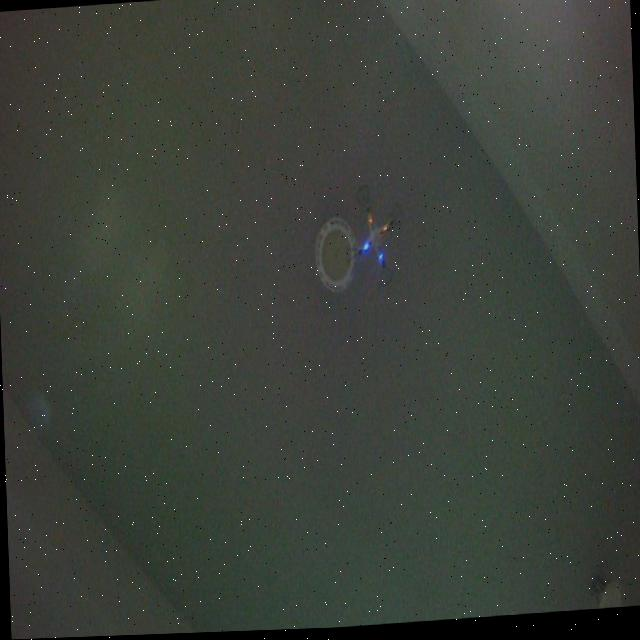drone: (341, 181, 407, 294)
